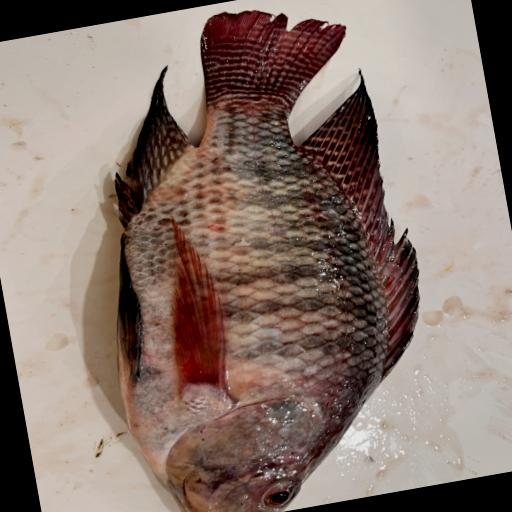Tilapia: (58, 0, 456, 512)
